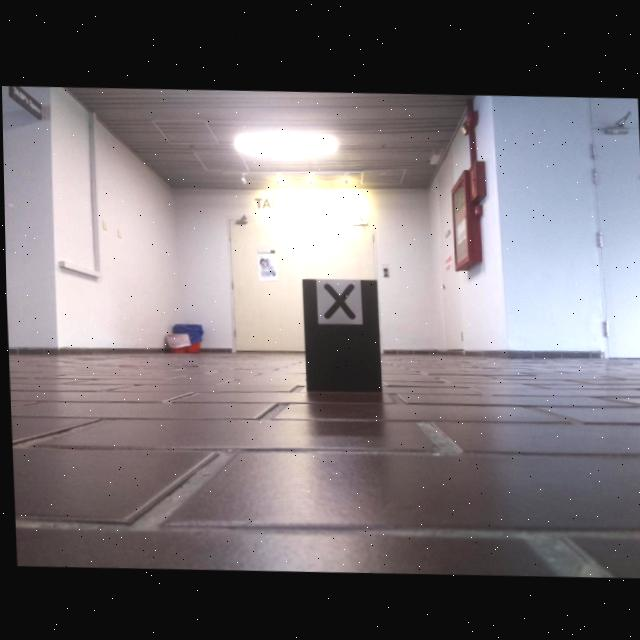X: (322, 281, 354, 317)
